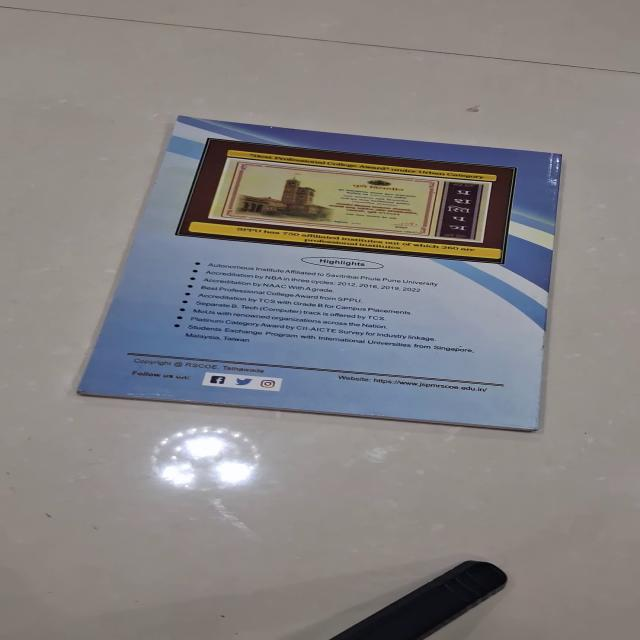paper: (75, 115, 563, 432)
